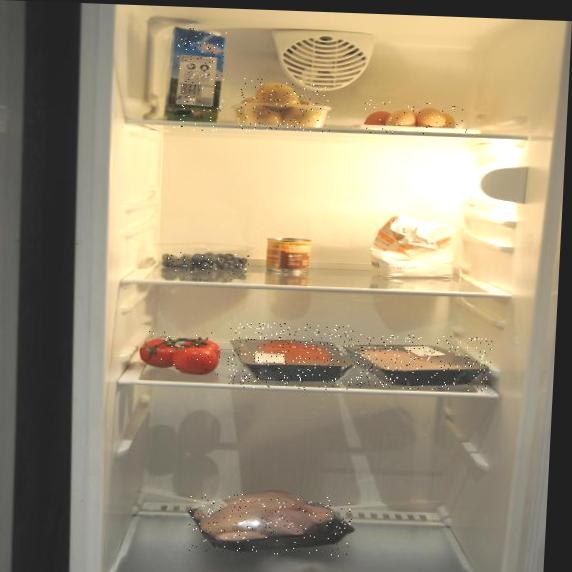chicken: (187, 492, 353, 557)
eggs: (362, 100, 469, 137)
meat: (226, 321, 354, 392), (348, 333, 492, 392)
milk: (174, 28, 227, 131)
olive: (166, 252, 250, 275)
potatoes: (238, 78, 332, 134)
tomatoes: (141, 329, 222, 376)
